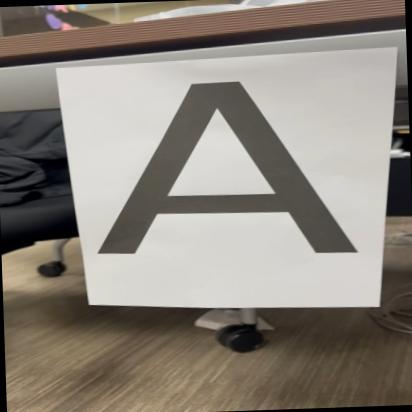seat: (84, 68, 368, 274)
